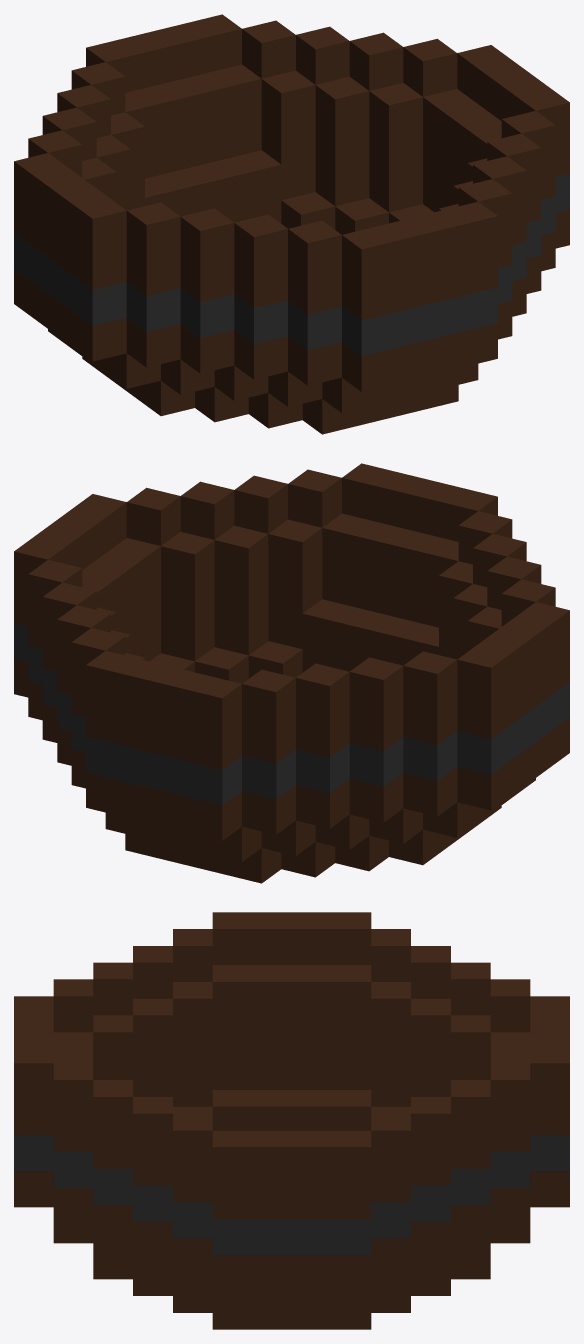
The model's file is TAZ.obj.
The picture shows the model from 3 angles, top to bottom: view 1: azimuth 30°, elevation 25°; view 2: azimuth 150°, elevation 25°; view 3: azimuth 270°, elevation 25°; orthographic projection.
Parts seen in each view (by area): view 1: TAZ; view 2: TAZ; view 3: TAZ.
Boxes of the visible parts, box(x1,y1,x2,y2) form: TAZ: box(14, 14, 569, 434); TAZ: box(14, 463, 569, 883); TAZ: box(14, 912, 569, 1329).
Size of the model in its own units: 1.4 by 0.6 by 1.4.
1 material, 1 textured.
